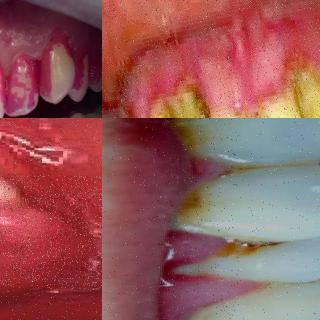Gum Swelling: (0, 202, 92, 302), (163, 220, 239, 320), (194, 42, 288, 108), (127, 48, 173, 118), (295, 18, 320, 78)
calculus: (174, 90, 228, 118), (247, 94, 309, 118), (294, 63, 320, 118), (198, 99, 255, 118)
maligned: (36, 22, 82, 105)
stains: (214, 238, 273, 264)
